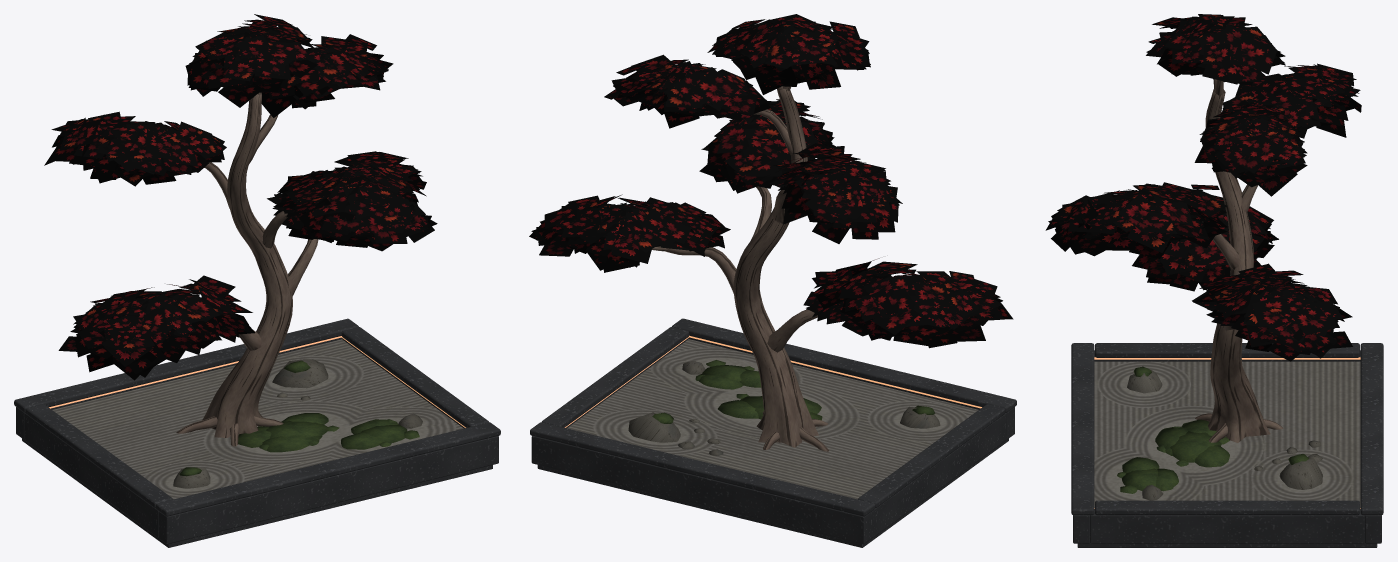
The model's file is maple_tree.glb.
The picture shows the model from 3 angles, left to right: view 1: azimuth 30°, elevation 25°; view 2: azimuth 150°, elevation 25°; view 3: azimuth 270°, elevation 25°; orthographic projection. The views are drawn at different scales.
Parts seen in each view (by area): view 1: soil_gravel_raked_1, canopy_1_foliage_maple_palmate_4, bed_stone_basalt_1, trunk_bark_maple_0, canopy_4_foliage_maple_palmate_4, canopy_3_foliage_maple_palmate_4, canopy_6_foliage_maple_palmate_3, bed_stone_basalt_5, canopy_5_foliage_maple_palmate_4, bed_stone_basalt_6, bed_stone_basalt_4, bed_stone_basalt_8 (+9 smaller); view 2: soil_gravel_raked_1, canopy_1_foliage_maple_palmate_4, canopy_2_foliage_maple_palmate_4, bed_stone_basalt_2, canopy_4_foliage_maple_palmate_4, canopy_6_foliage_maple_palmate_3, trunk_bark_maple_0, canopy_5_foliage_maple_palmate_4, canopy_3_foliage_maple_palmate_4, bed_stone_basalt_6, bed_stone_basalt_5, bed_stone_basalt_4 (+9 smaller); view 3: soil_gravel_raked_1, canopy_3_foliage_maple_palmate_4, canopy_2_foliage_maple_palmate_4, bed_stone_basalt_3, canopy_6_foliage_maple_palmate_3, canopy_5_foliage_maple_palmate_4, trunk_bark_maple_0, canopy_4_foliage_maple_palmate_4, canopy_1_foliage_maple_palmate_4, bed_stone_basalt_7, bed_stone_basalt_5, bed_stone_basalt_6 (+14 smaller).
Boxes of the visible parts, left/top/right/bottom form: soil_gravel_raked_1: left=52, top=339, right=463, bottom=499; canopy_1_foliage_maple_palmate_4: left=58, top=275, right=255, bottom=380; bed_stone_basalt_1: left=159, top=436, right=498, bottom=544; trunk_bark_maple_0: left=202, top=94, right=292, bottom=437; canopy_4_foliage_maple_palmate_4: left=44, top=111, right=226, bottom=186; canopy_3_foliage_maple_palmate_4: left=267, top=172, right=437, bottom=251; canopy_6_foliage_maple_palmate_3: left=185, top=14, right=317, bottom=107; bed_stone_basalt_5: left=156, top=422, right=500, bottom=516; canopy_5_foliage_maple_palmate_4: left=261, top=34, right=393, bottom=117; bed_stone_basalt_6: left=14, top=318, right=358, bottom=412; bed_stone_basalt_4: left=24, top=413, right=158, bottom=537; bed_stone_basalt_8: left=25, top=404, right=172, bottom=508; soil_gravel_raked_1: left=567, top=339, right=978, bottom=499; canopy_1_foliage_maple_palmate_4: left=803, top=258, right=1013, bottom=348; canopy_2_foliage_maple_palmate_4: left=529, top=194, right=730, bottom=272; bed_stone_basalt_2: left=531, top=436, right=871, bottom=544; canopy_4_foliage_maple_palmate_4: left=769, top=143, right=902, bottom=243; canopy_6_foliage_maple_palmate_3: left=707, top=14, right=870, bottom=94; trunk_bark_maple_0: left=733, top=88, right=818, bottom=447; canopy_5_foliage_maple_palmate_4: left=604, top=54, right=770, bottom=128; canopy_3_foliage_maple_palmate_4: left=699, top=99, right=835, bottom=193; bed_stone_basalt_6: left=530, top=422, right=875, bottom=516; bed_stone_basalt_5: left=672, top=318, right=1016, bottom=412; bed_stone_basalt_4: left=872, top=413, right=1006, bottom=537; soil_gravel_raked_1: left=1094, top=361, right=1360, bottom=507; canopy_3_foliage_maple_palmate_4: left=1045, top=182, right=1227, bottom=258; canopy_2_foliage_maple_palmate_4: left=1192, top=263, right=1352, bottom=361; bed_stone_basalt_3: left=1090, top=508, right=1364, bottom=543; canopy_6_foliage_maple_palmate_3: left=1146, top=14, right=1285, bottom=85; canopy_5_foliage_maple_palmate_4: left=1194, top=102, right=1307, bottom=196; trunk_bark_maple_0: left=1205, top=89, right=1270, bottom=442; canopy_4_foliage_maple_palmate_4: left=1220, top=63, right=1361, bottom=138; canopy_1_foliage_maple_palmate_4: left=1132, top=184, right=1278, bottom=291; bed_stone_basalt_7: left=1095, top=500, right=1359, bottom=515; bed_stone_basalt_5: left=1071, top=343, right=1094, bottom=515; bed_stone_basalt_6: left=1360, top=343, right=1383, bottom=515.
Size of what is drawn, in the model's own units: 2.3 by 2.33 by 1.62.
13 materials, 9 textured.
